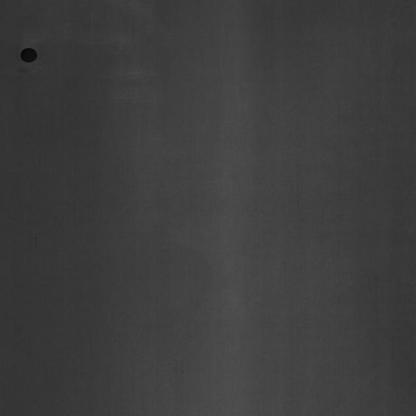punching_hole: (16, 42, 38, 67)
